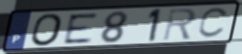1: (146, 7, 164, 44)
8: (99, 10, 130, 44)
C: (196, 7, 231, 40)
E: (63, 12, 100, 46)
O: (30, 12, 65, 48)
R: (161, 7, 198, 42)
